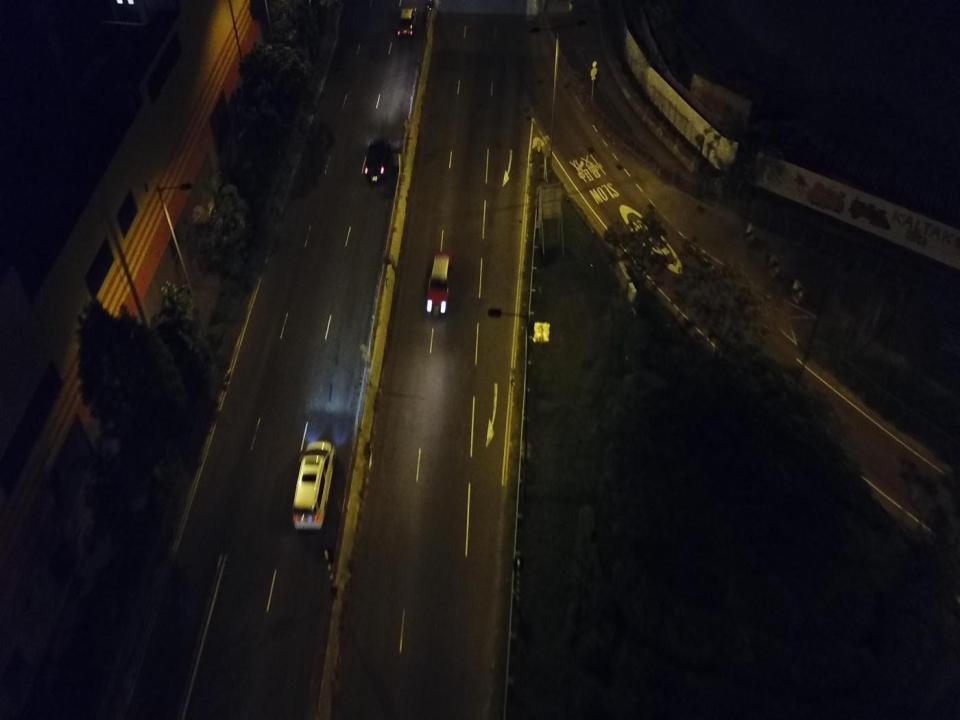car: (425, 249, 451, 320), (364, 137, 392, 187), (397, 3, 416, 44)
van: (292, 438, 335, 532)
